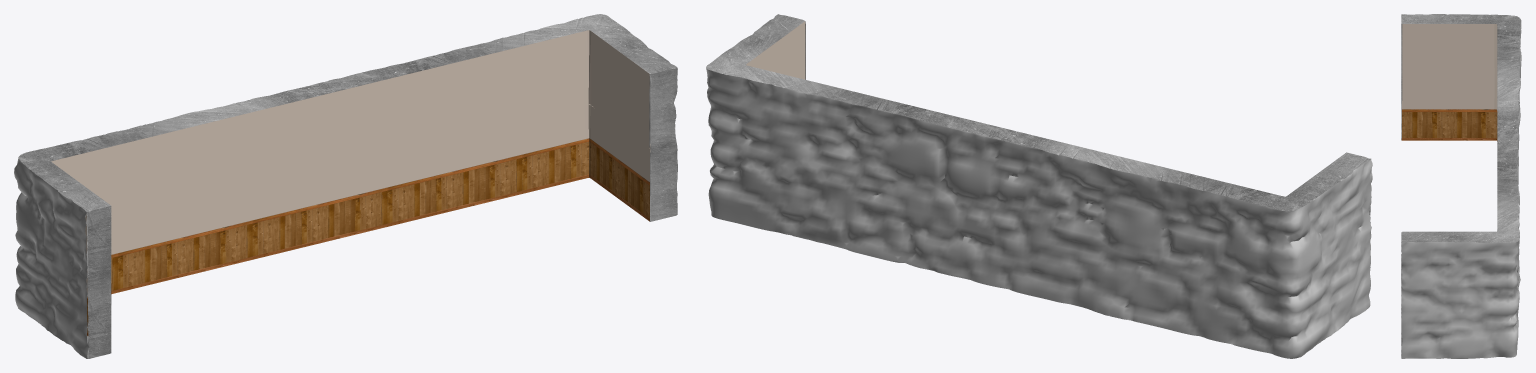
Rendered from RockWall.fbx.
3 renders of one model, left to right at view 1: azimuth 30°, elevation 25°; view 2: azimuth 150°, elevation 25°; view 3: azimuth 270°, elevation 25°, orthographic. The views are drawn at different scales.
Parts seen in each view (by area): view 1: Superl_Low1; view 2: Superl_Low1; view 3: Superl_Low1.
Boxes of the visible parts, x1,y1,x2,y2 form: Superl_Low1: (14, 14, 677, 358); Superl_Low1: (706, 14, 1372, 358); Superl_Low1: (1401, 14, 1521, 358).
Size of the model in its own units: 60.88 by 14.44 by 13.51.
